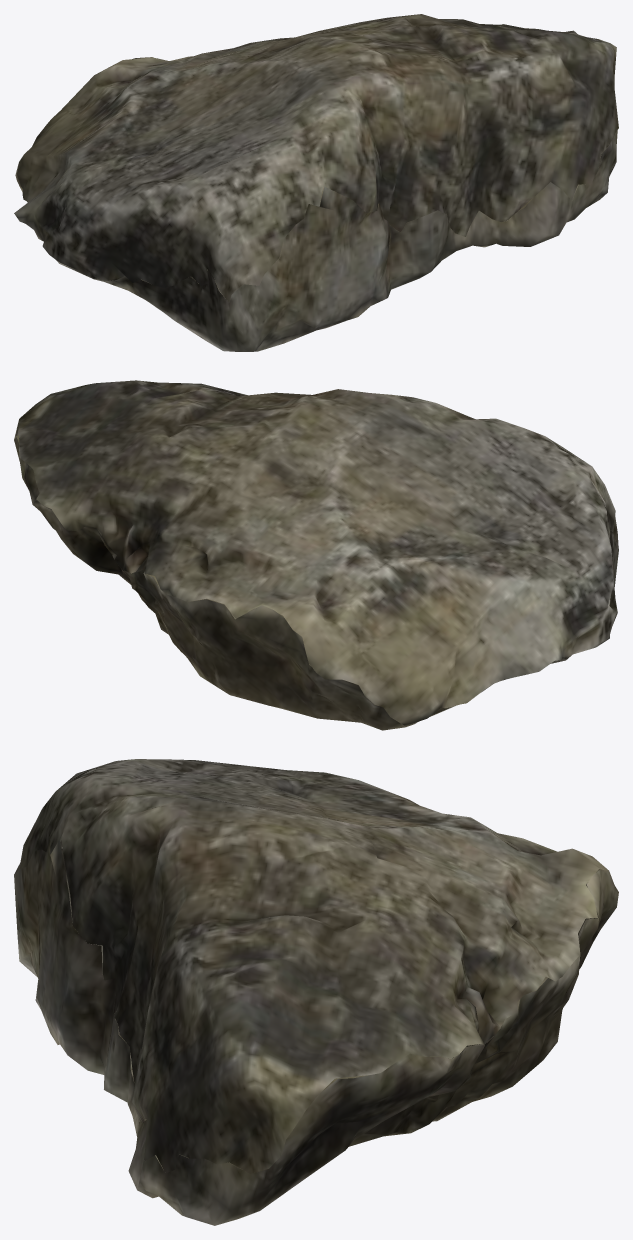
File: pr_moss_b_06.fbx
The picture shows the model from 3 angles, top to bottom: view 1: azimuth 30°, elevation 25°; view 2: azimuth 150°, elevation 25°; view 3: azimuth 270°, elevation 25°; orthographic projection. The views are drawn at different scales.
Visible parts, largest first — view 1: pr_moss_b_06_LOD0; view 2: pr_moss_b_06_LOD0; view 3: pr_moss_b_06_LOD0.
Part boxes in pixels (x1,y1,x2,y2): pr_moss_b_06_LOD0: (14, 14, 618, 351); pr_moss_b_06_LOD0: (14, 380, 618, 730); pr_moss_b_06_LOD0: (14, 759, 618, 1225).
Size of what is drawn, in the model's own units: 2.2 by 0.7685 by 1.55.
Materials: 1 (1 with a texture image).
